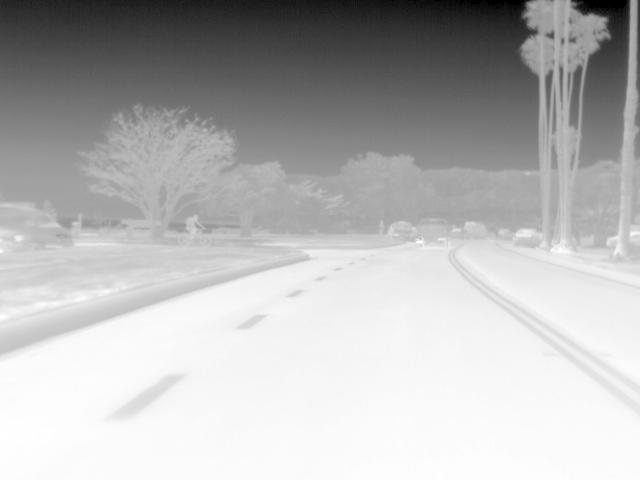car: (1, 200, 74, 248), (414, 218, 453, 246), (1, 226, 36, 251), (388, 219, 418, 243), (605, 230, 640, 248), (513, 228, 540, 247), (464, 220, 488, 239), (449, 225, 463, 239)
person: (185, 213, 206, 240), (378, 218, 386, 236)
